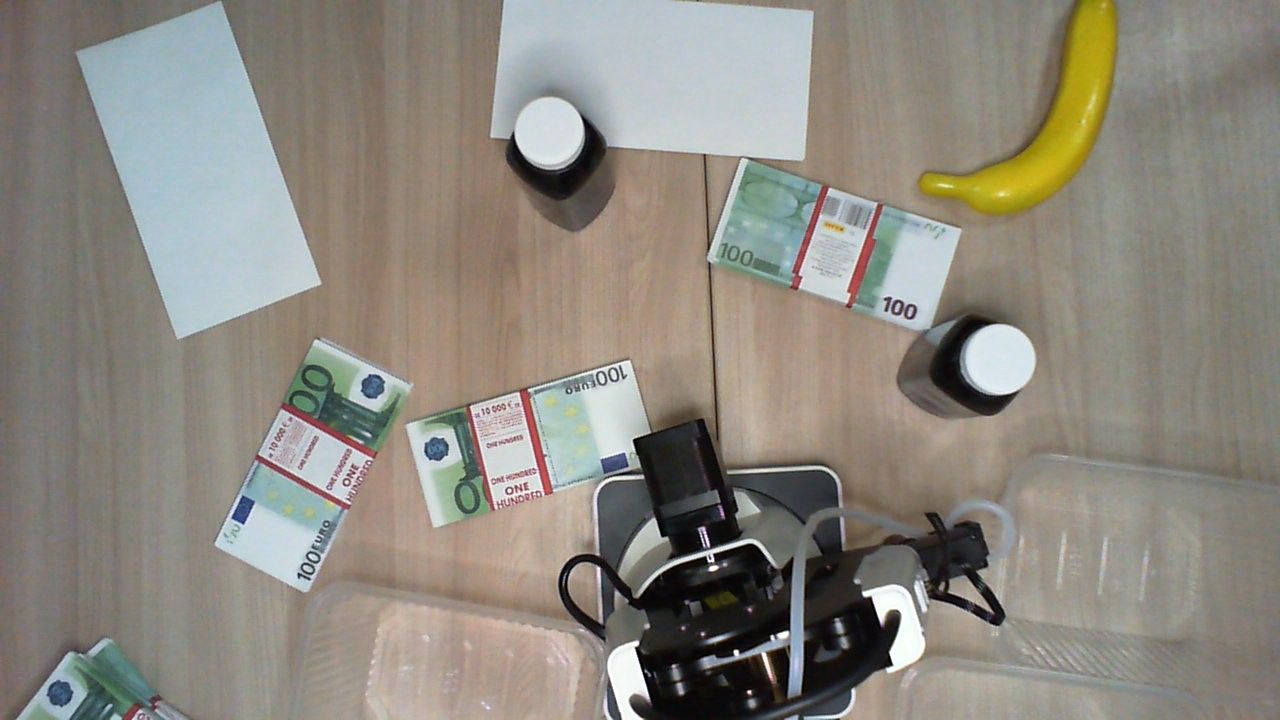banana: (918, 1, 1124, 219)
bottle: (932, 312, 1040, 413), (498, 99, 608, 197)
convert: (73, 1, 322, 340), (494, 1, 815, 160)
money: (217, 339, 406, 594), (394, 358, 657, 530), (710, 159, 961, 330), (23, 641, 194, 720)
